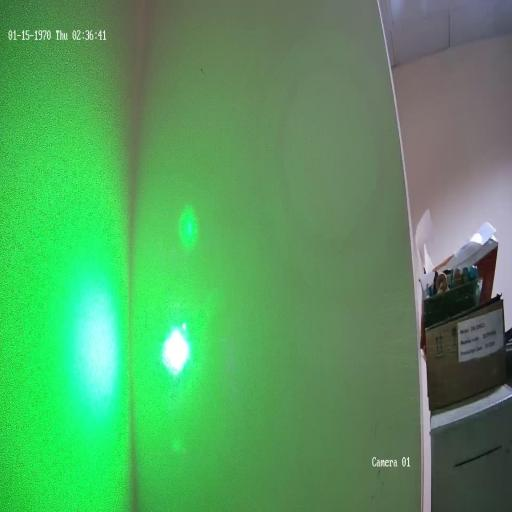laser: (157, 308, 196, 387)
